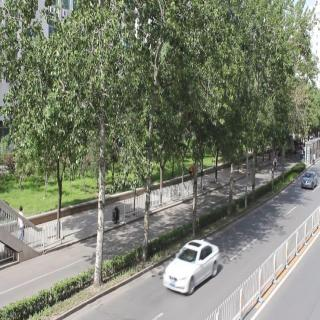Car: (164, 241, 223, 295), (301, 170, 317, 190)
